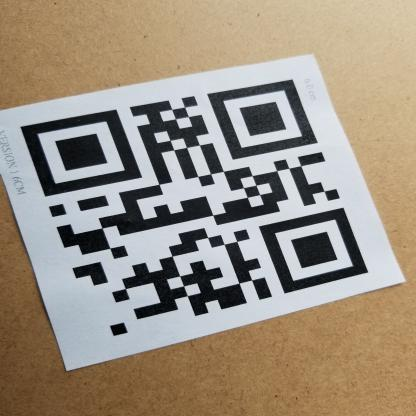qr: (19, 77, 375, 340)
